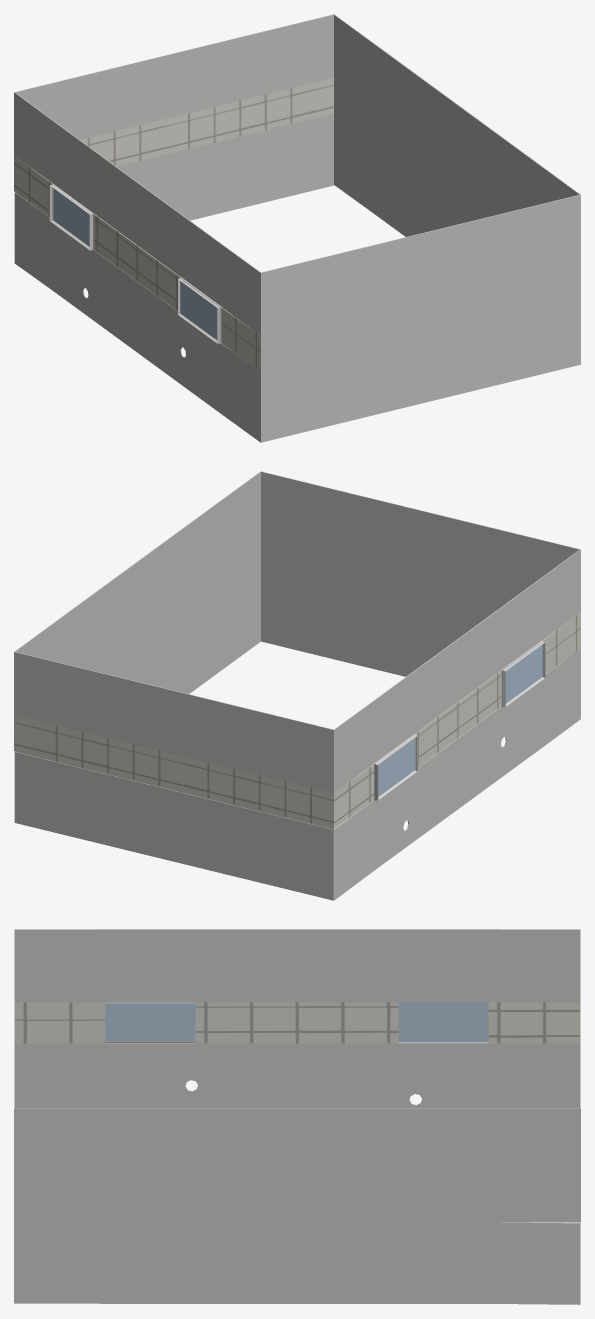
File: duvarr.fbx
3 views of the same model, one above another, from view 1: azimuth 30°, elevation 25°; view 2: azimuth 150°, elevation 25°; view 3: azimuth 270°, elevation 25° (orthographic). The views are drawn at different scales.
Parts seen in each view (by area): view 1: duvar; view 2: duvar; view 3: duvar.
Boxes of the visible parts, x1=… form: duvar: x1=14, y1=14, x2=580, y2=442; duvar: x1=14, y1=471, x2=580, y2=900; duvar: x1=14, y1=929, x2=580, y2=1304.
Size of the model in its own units: 1903 by 959 by 2510.
Materials: 3 (1 with a texture image).
